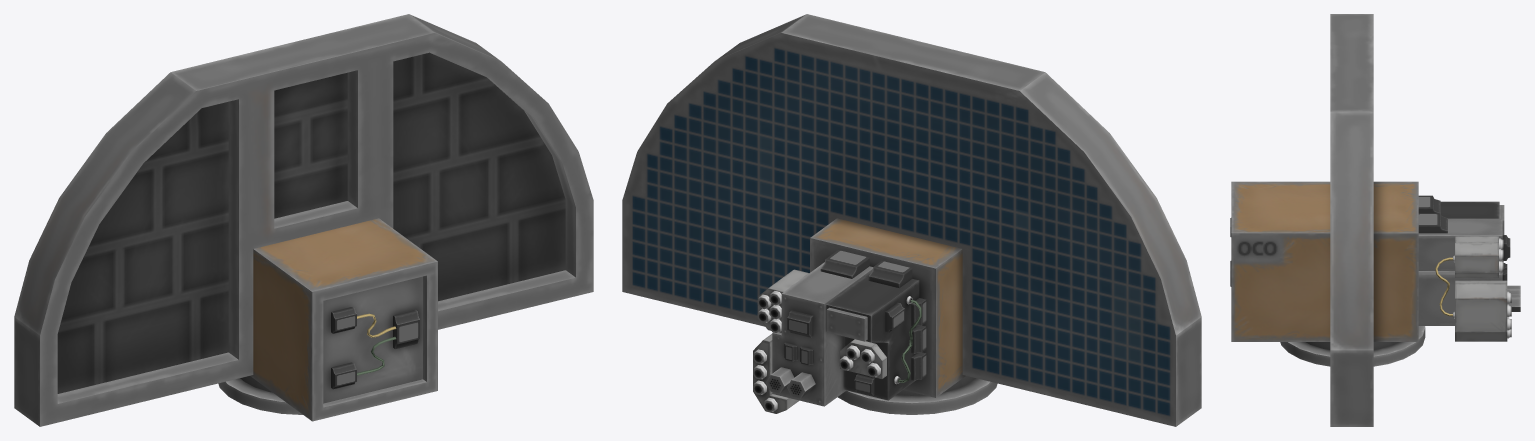
Rendered from OSO_Panel.dae.
3 renders of one model, left to right at view 1: azimuth 30°, elevation 25°; view 2: azimuth 150°, elevation 25°; view 3: azimuth 270°, elevation 25°, orthographic. The views are drawn at different scales.
Visible parts, largest first — view 1: OSO_Panel_merged_pivot_OSO_SolarPanel, Base; view 2: OSO_Panel_merged_pivot_OSO_SolarPanel, Base; view 3: OSO_Panel_merged_pivot_OSO_SolarPanel, Base.
Part boxes in pixels (<box>): OSO_Panel_merged_pivot_OSO_SolarPanel: <box>14,14,593,426</box>; Base: <box>218,378,302,414</box>; OSO_Panel_merged_pivot_OSO_SolarPanel: <box>622,14,1201,426</box>; Base: <box>837,378,997,414</box>; OSO_Panel_merged_pivot_OSO_SolarPanel: <box>1230,14,1520,426</box>; Base: <box>1280,326,1425,366</box>.
Size of what is drawn, in the model's own units: 0.625 by 0.3517 by 0.3378.
